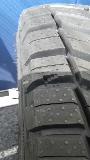temoin:100: (42, 73, 63, 85)
